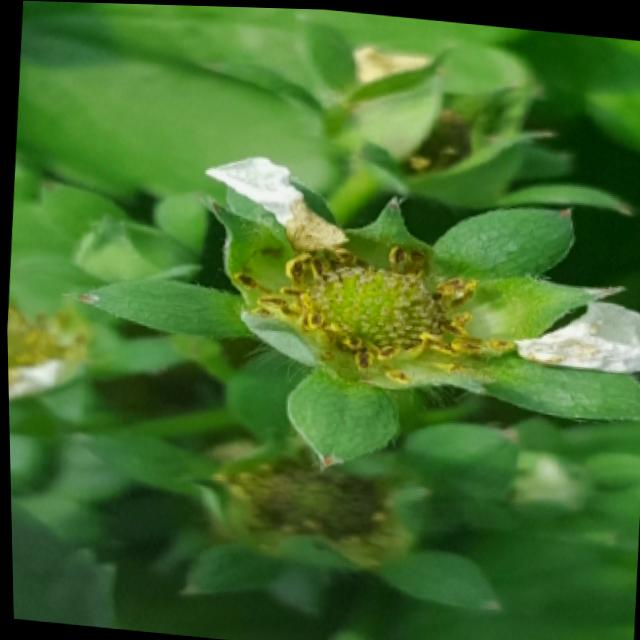Blossom Blight: (228, 232, 513, 390)
